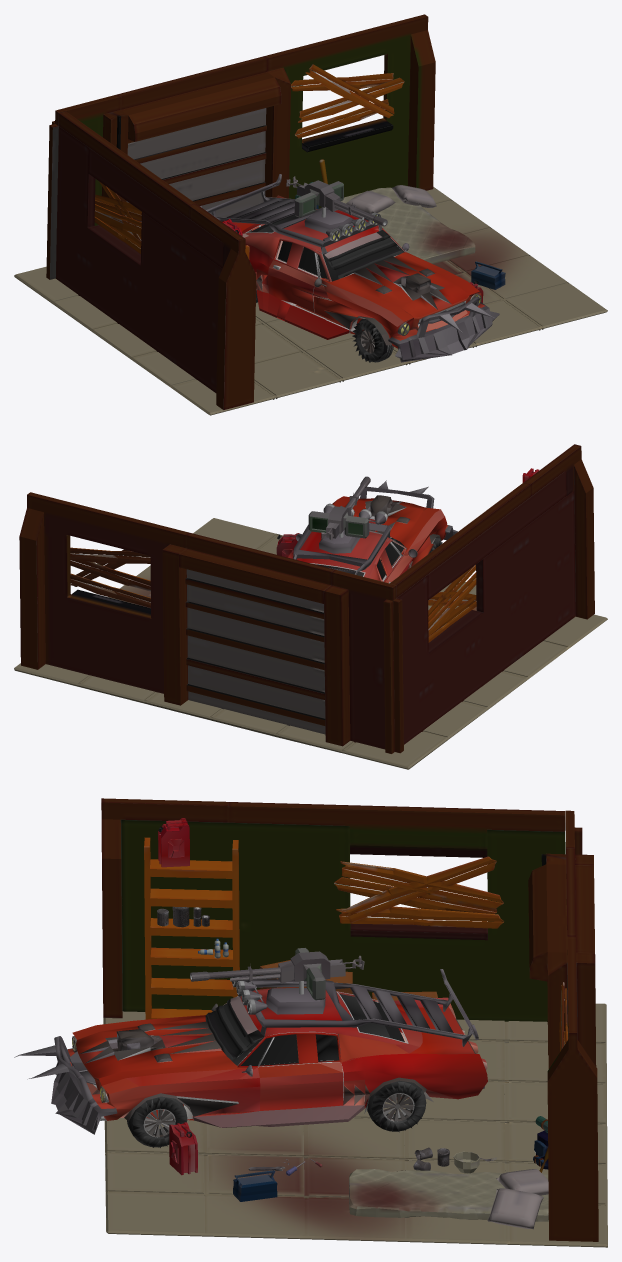
The model's file is cubicle_survivors_garage.glb.
3 views of the same model, one above another, from view 1: azimuth 30°, elevation 25°; view 2: azimuth 150°, elevation 25°; view 3: azimuth 270°, elevation 25° (orthographic). The views are drawn at different scales.
Visible parts, largest first — view 1: Cube_10; view 2: Cube_10; view 3: Cube_10.
Boxes of the visible parts, x1,y1,x2,y2 form: Cube_10: [14, 14, 607, 415]; Cube_10: [14, 444, 607, 769]; Cube_10: [14, 798, 607, 1247].
Size of the model in its own units: 26.8 by 11.26 by 26.97.
Materials: 1 (1 with a texture image).
